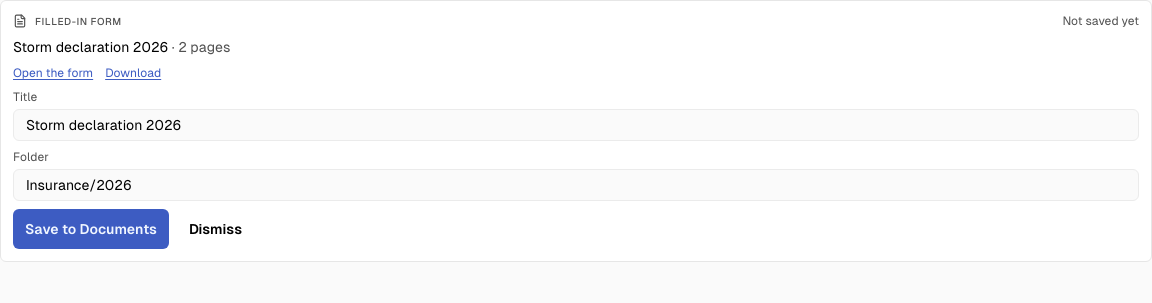
Test: AssistantFormDraftCard › a refused Save shows the server reason, keeps the buttons and changes nothing
Click the button "Save to Documents". click: (91, 229)
box: x1=13 y1=209 x2=169 y2=249
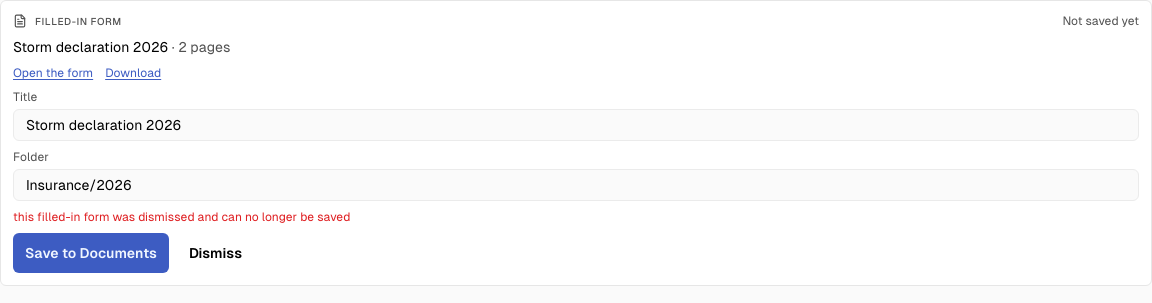
Expected: the button "Save to Documents" is enabled, x1=13 y1=233 x2=169 y2=273
Now the message reads "this filled-in form was dismissed and can no longer be saved", box x1=13 y1=210 x2=350 y2=224
